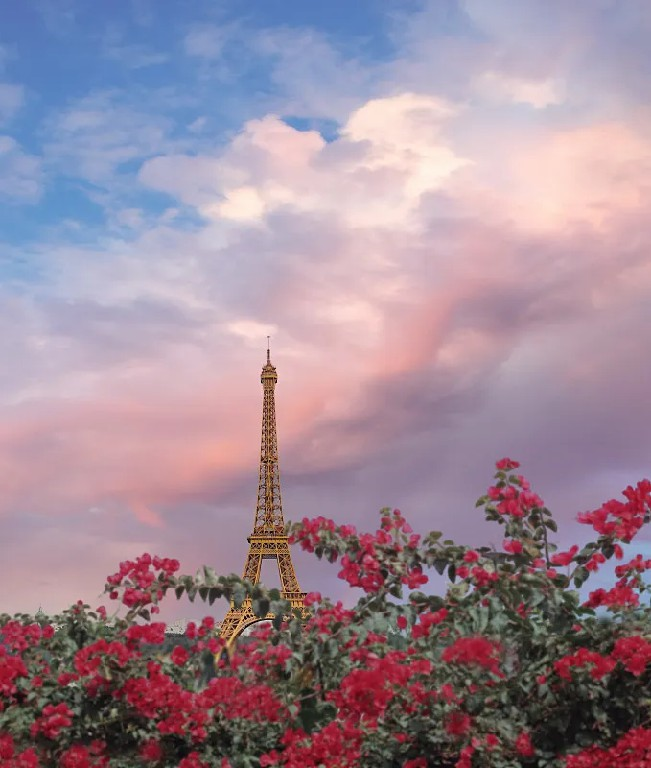Eiffel: (211, 337, 315, 669)
